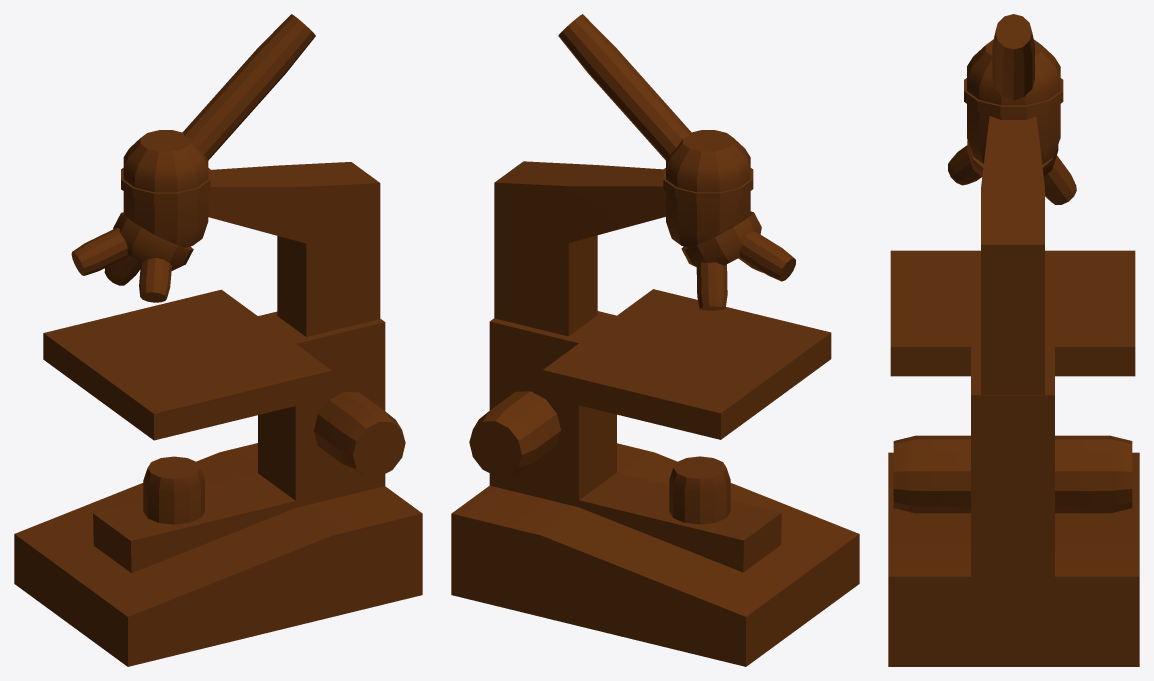
The model's file is microscop.fbx.
3 renders of one model, left to right at view 1: azimuth 30°, elevation 25°; view 2: azimuth 150°, elevation 25°; view 3: azimuth 270°, elevation 25°, orthographic. The views are drawn at different scales.
Parts seen in each view (by area): view 1: pCylinder38; view 2: pCylinder38; view 3: pCylinder38.
Part boxes in pixels (<box>): pCylinder38: <box>14,14,422,666</box>; pCylinder38: <box>451,14,859,666</box>; pCylinder38: <box>888,14,1139,666</box>.
Bounding box in the file's own units: 16.96 × 30.54 × 11.31.
